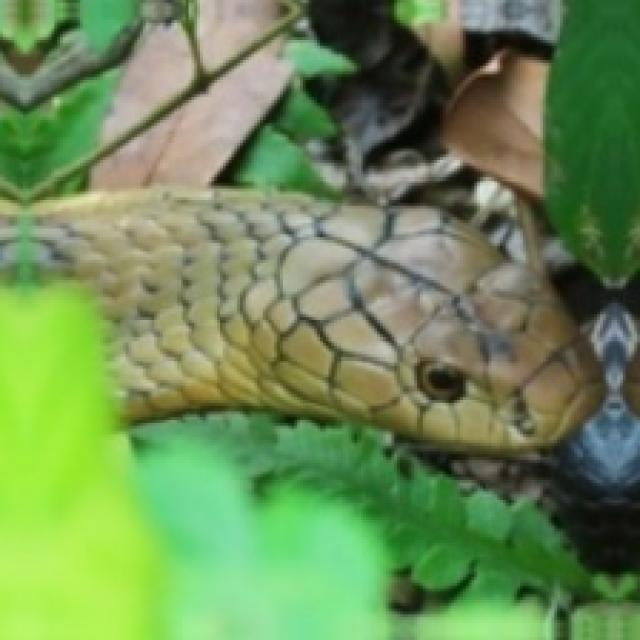king cobra: (31, 0, 637, 566)
